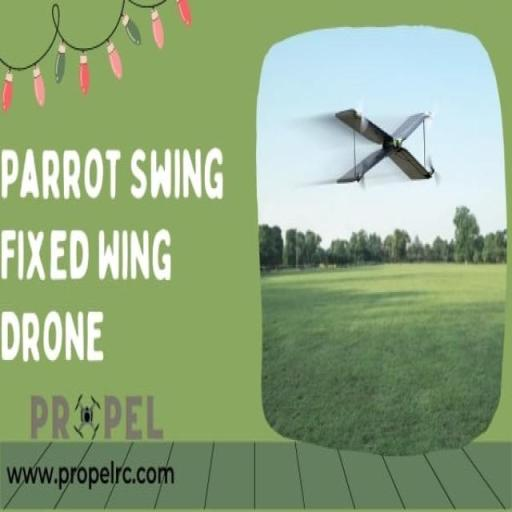uav: (324, 98, 444, 204)
